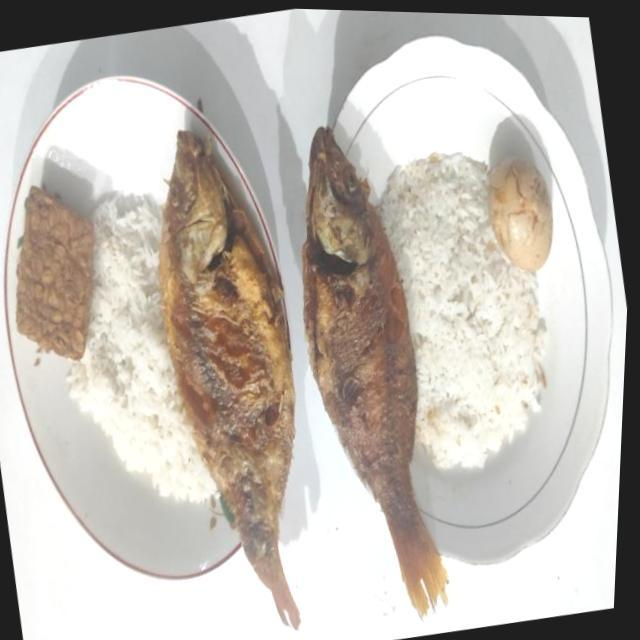ikan_mujair: (302, 127, 448, 616), (158, 131, 300, 628)
nasi_putih: (377, 152, 546, 468), (66, 194, 218, 503)
tempe_goreng: (16, 186, 93, 360)
